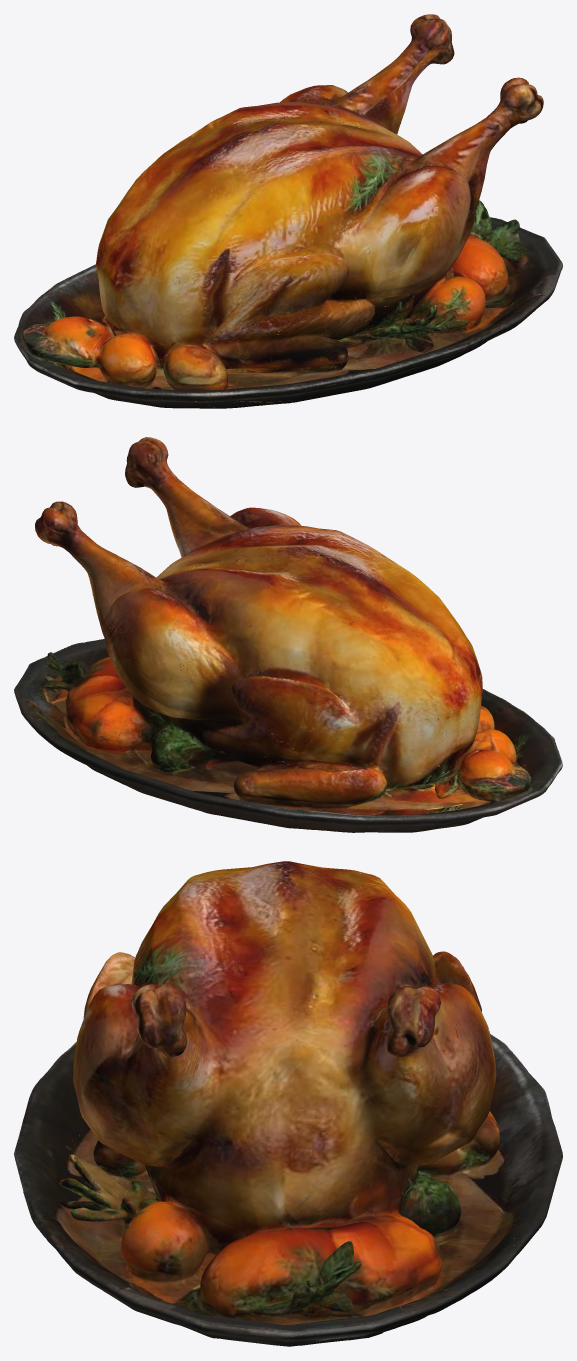
The model's file is roasted-chicken.glb.
3 views of the same model, one above another, from view 1: azimuth 30°, elevation 25°; view 2: azimuth 150°, elevation 25°; view 3: azimuth 270°, elevation 25° (orthographic). The views are drawn at different scales.
Visible parts, largest first — view 1: Mesh1_Mesh1.067; view 2: Mesh1_Mesh1.067; view 3: Mesh1_Mesh1.067.
Boxes of the visible parts, bbox=[...] form: Mesh1_Mesh1.067: bbox=[14, 14, 562, 408]; Mesh1_Mesh1.067: bbox=[14, 437, 562, 832]; Mesh1_Mesh1.067: bbox=[14, 861, 562, 1346].
Bounding box in the file's own units: 0.2997 × 0.1318 × 0.1931.
1 material, 1 textured.
